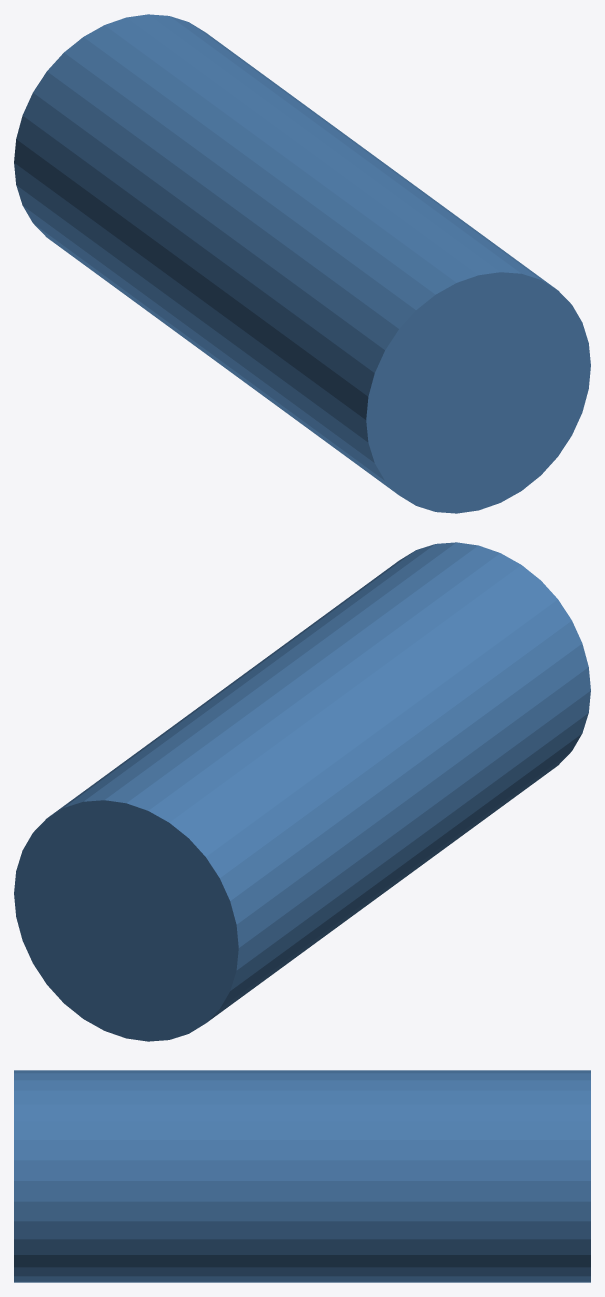
The model's file is AL_VectorVTOL.fbx.
The picture shows the model from 3 angles, top to bottom: view 1: azimuth 30°, elevation 25°; view 2: azimuth 150°, elevation 25°; view 3: azimuth 270°, elevation 25°; orthographic projection. The views are drawn at different scales.
Visible parts, largest first — view 1: Cylinder; view 2: Cylinder; view 3: Cylinder.
Part boxes in pixels (x1,y1,x2,y2): Cylinder: (14,14,590,513); Cylinder: (14,542,590,1041); Cylinder: (14,1070,590,1282).
Size of the model in its own units: 140 by 140 by 380.
